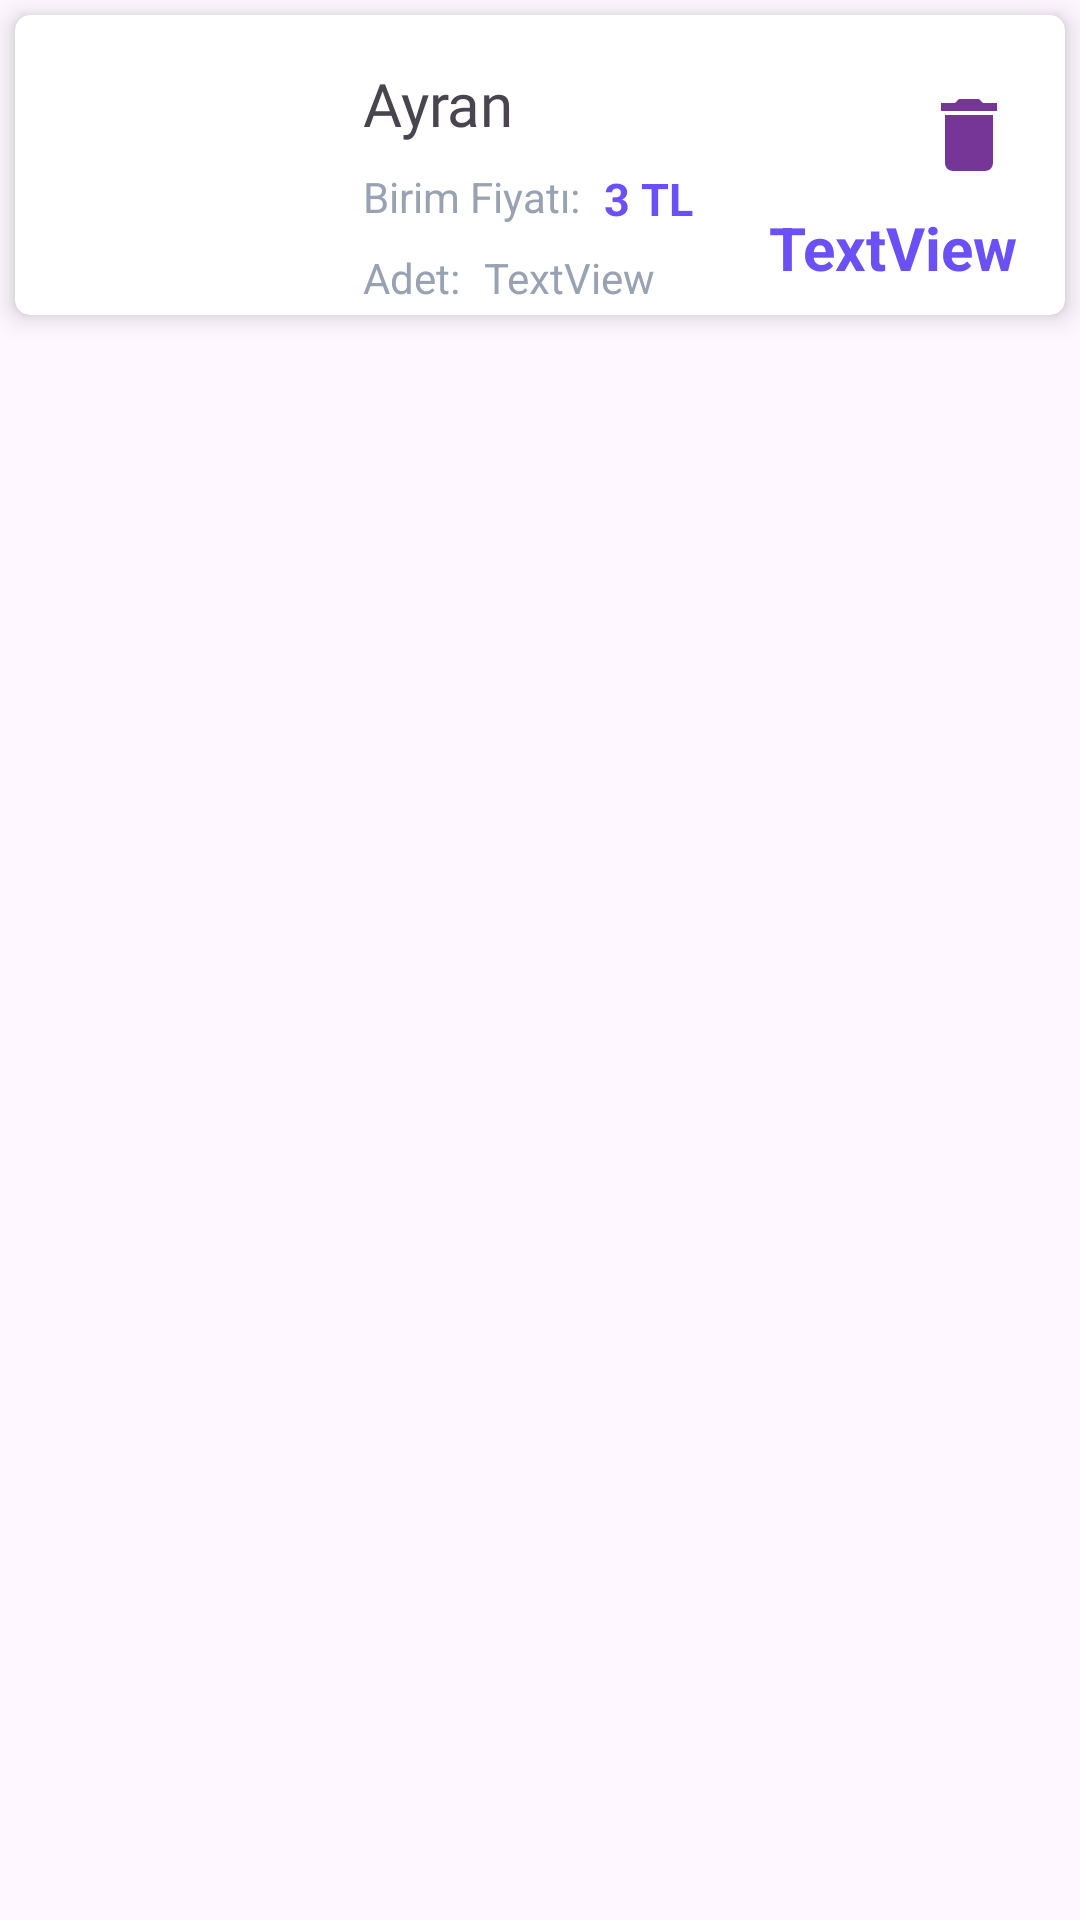

Icons on this 1080*1920 Android screen, each with the point to tap as point (x, y):
delete: point (969, 135)
